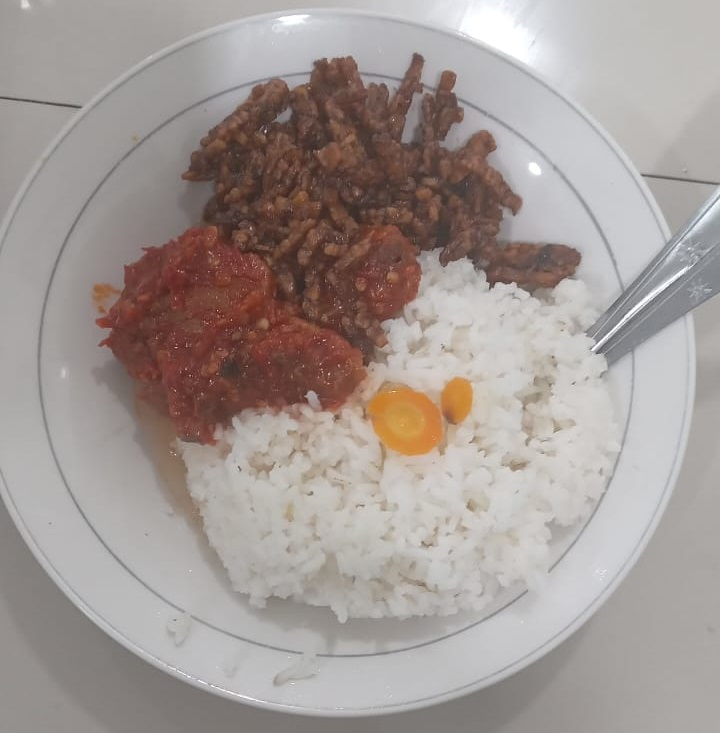Ayam_sambel: (96, 242, 273, 403)
Nasi: (216, 412, 593, 629)
Tempe_orek: (191, 45, 562, 210)
